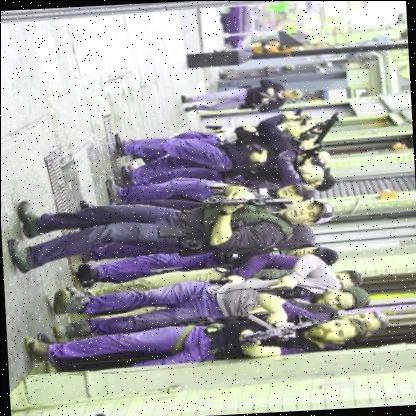rifle: (241, 309, 313, 347), (306, 111, 344, 152), (201, 190, 258, 211), (254, 89, 282, 110), (259, 280, 294, 296)
